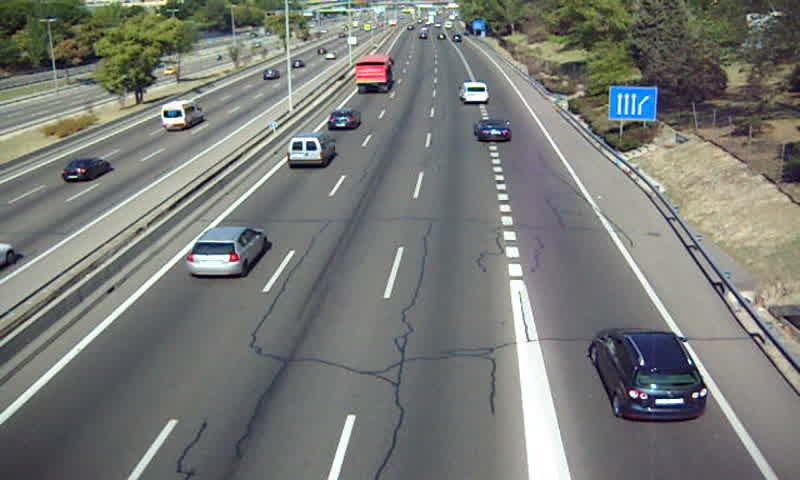car: (590, 329, 709, 423), (186, 227, 269, 276), (475, 119, 513, 144), (326, 108, 362, 130)
truck: (354, 56, 394, 91)
van: (286, 132, 333, 166), (458, 82, 490, 104)
